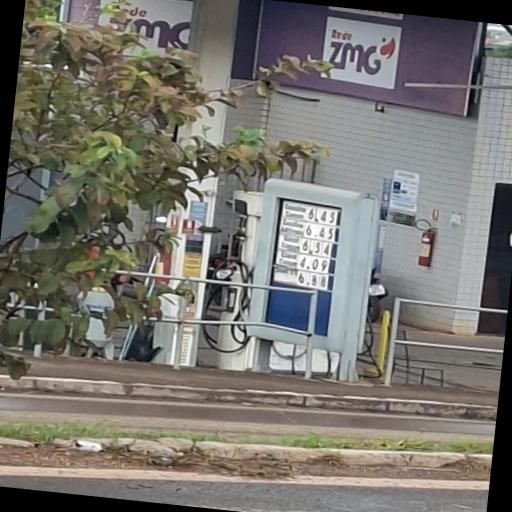ETANOL: (275, 251, 299, 268)
GASOLINA AD: (280, 218, 305, 237)
GASOLINA C: (282, 203, 306, 221)
S10: (274, 266, 298, 281)
S500: (277, 234, 301, 253)
placa: (269, 200, 339, 291)
preco: (300, 240, 332, 259), (306, 207, 336, 227), (297, 271, 328, 290), (298, 256, 330, 272), (306, 224, 334, 241)
